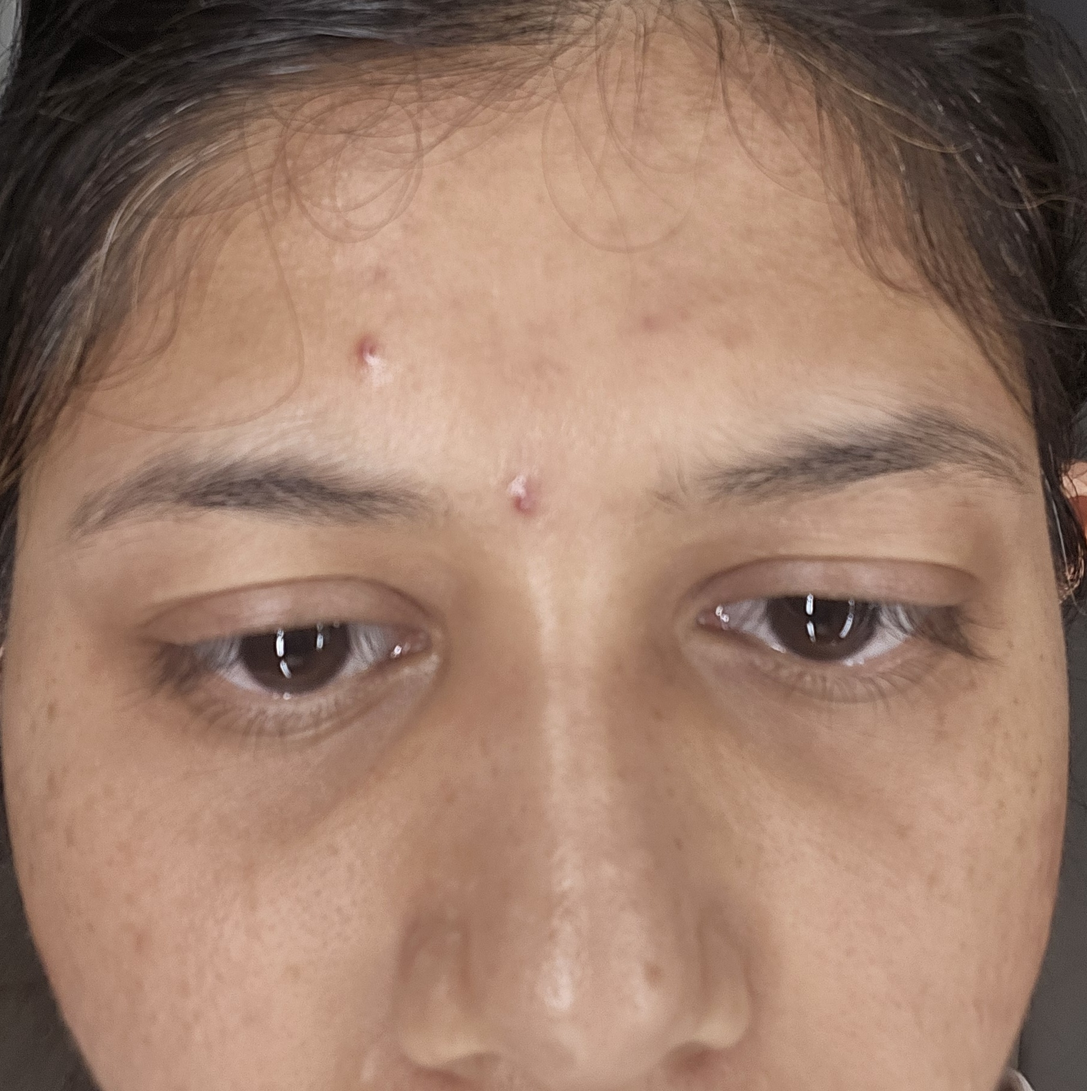pustule: (352, 322, 413, 392), (490, 468, 548, 524)
